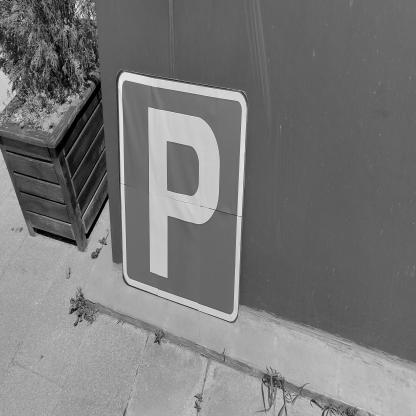Parking-Sign: (116, 69, 251, 326)
